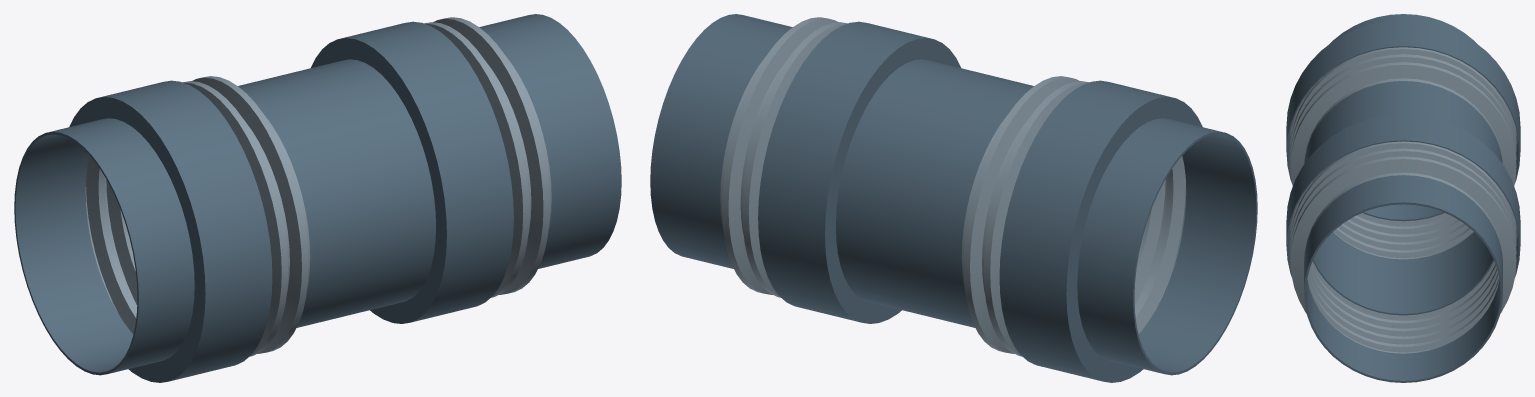
File: 2silf-dn800-L1835-D820-k-o1025.glb
The picture shows the model from 3 angles, left to right: view 1: azimuth 30°, elevation 25°; view 2: azimuth 150°, elevation 25°; view 3: azimuth 270°, elevation 25°; orthographic projection. The views are drawn at different scales.
Visible parts, largest first — view 1: patrubok_1, osnovanie_kozhuh_2, osnovanie_kozhuh_1, patrubok_4, patrubok_2, prokladka_silfon_1, patrubok_3, prokladka_silfon_2; view 2: patrubok_1, osnovanie_kozhuh_2, osnovanie_kozhuh_1, patrubok_4, patrubok_2, prokladka_silfon_1, patrubok_3, prokladka_silfon_2; view 3: prokladka_silfon_2, prokladka_silfon_1, patrubok_4, patrubok_2, osnovanie_kozhuh_2, osnovanie_kozhuh_1, patrubok_3, patrubok_1.
Boxes of the visible parts, bbox=[...] form: patrubok_1: bbox=[14, 118, 194, 375]; osnovanie_kozhuh_2: bbox=[311, 21, 513, 323]; osnovanie_kozhuh_1: bbox=[69, 80, 272, 382]; patrubok_4: bbox=[479, 14, 621, 268]; patrubok_2: bbox=[238, 73, 380, 327]; prokladka_silfon_1: bbox=[85, 76, 310, 356]; patrubok_3: bbox=[289, 59, 435, 314]; prokladka_silfon_2: bbox=[424, 17, 551, 297]; patrubok_1: bbox=[1077, 118, 1257, 375]; osnovanie_kozhuh_2: bbox=[758, 21, 960, 323]; osnovanie_kozhuh_1: bbox=[999, 80, 1202, 382]; patrubok_4: bbox=[650, 14, 792, 268]; patrubok_2: bbox=[891, 73, 1033, 327]; prokladka_silfon_1: bbox=[961, 76, 1186, 356]; patrubok_3: bbox=[836, 59, 982, 314]; prokladka_silfon_2: bbox=[720, 17, 847, 297]; prokladka_silfon_2: bbox=[1290, 141, 1516, 353]; prokladka_silfon_1: bbox=[1290, 47, 1516, 259]; patrubok_4: bbox=[1304, 175, 1502, 382]; patrubok_2: bbox=[1304, 81, 1502, 286]; osnovanie_kozhuh_2: bbox=[1286, 114, 1520, 276]; osnovanie_kozhuh_1: bbox=[1286, 20, 1520, 182]; patrubok_3: bbox=[1313, 108, 1493, 315]; patrubok_1: bbox=[1330, 14, 1476, 221].
Bounding box in the file's own units: 1835 × 963 × 963.
